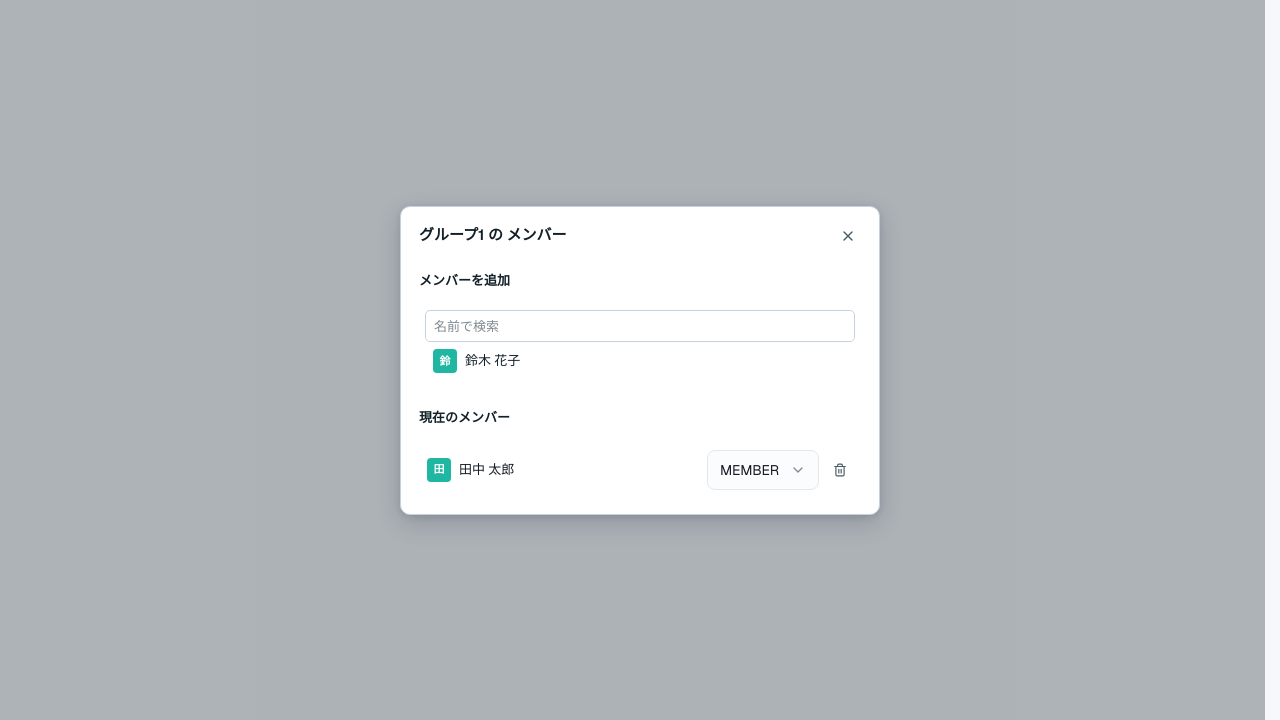
it: DeskMembershipScopeModal（dsk-0309・共通メンバー管理モーダル） › ロール変更失敗時、inline エラーと toast.error の両方を出すこと
Click the button with aria-label "田中 太郎 のロール" at [763, 470], box [707,450,819,490]
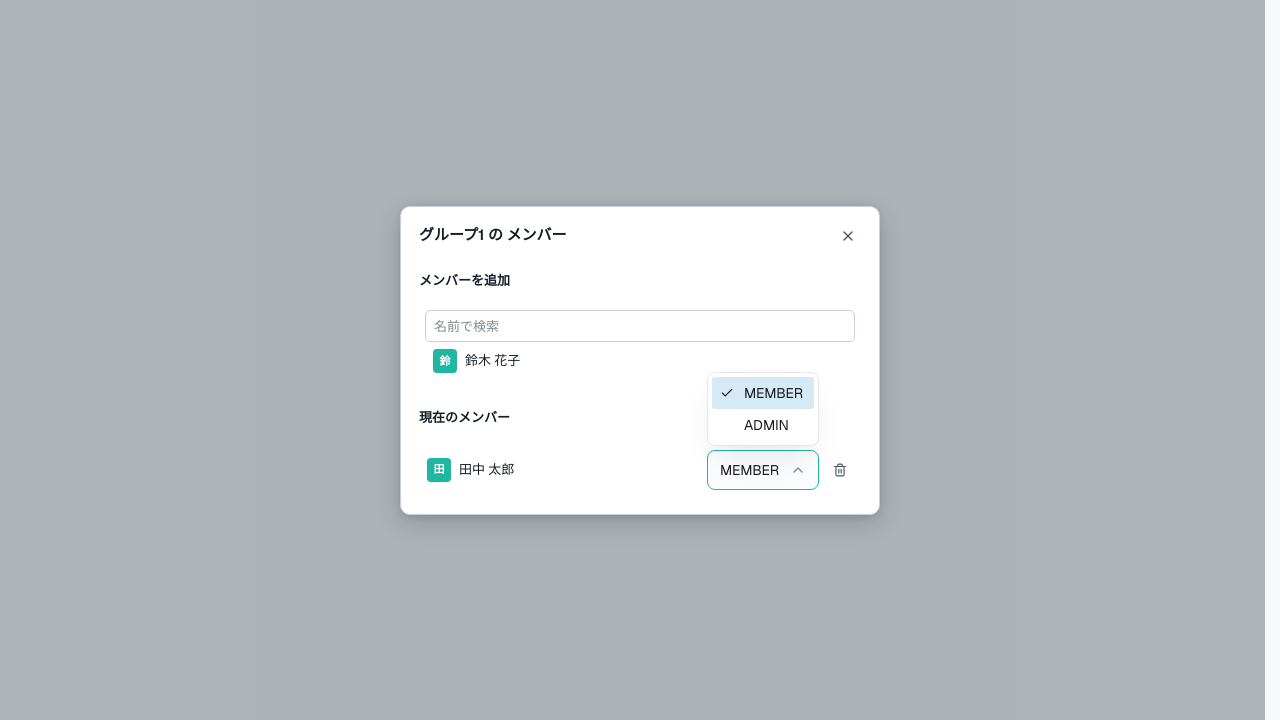
Click the option "ADMIN" at [766, 424], box [744,416,789,434]
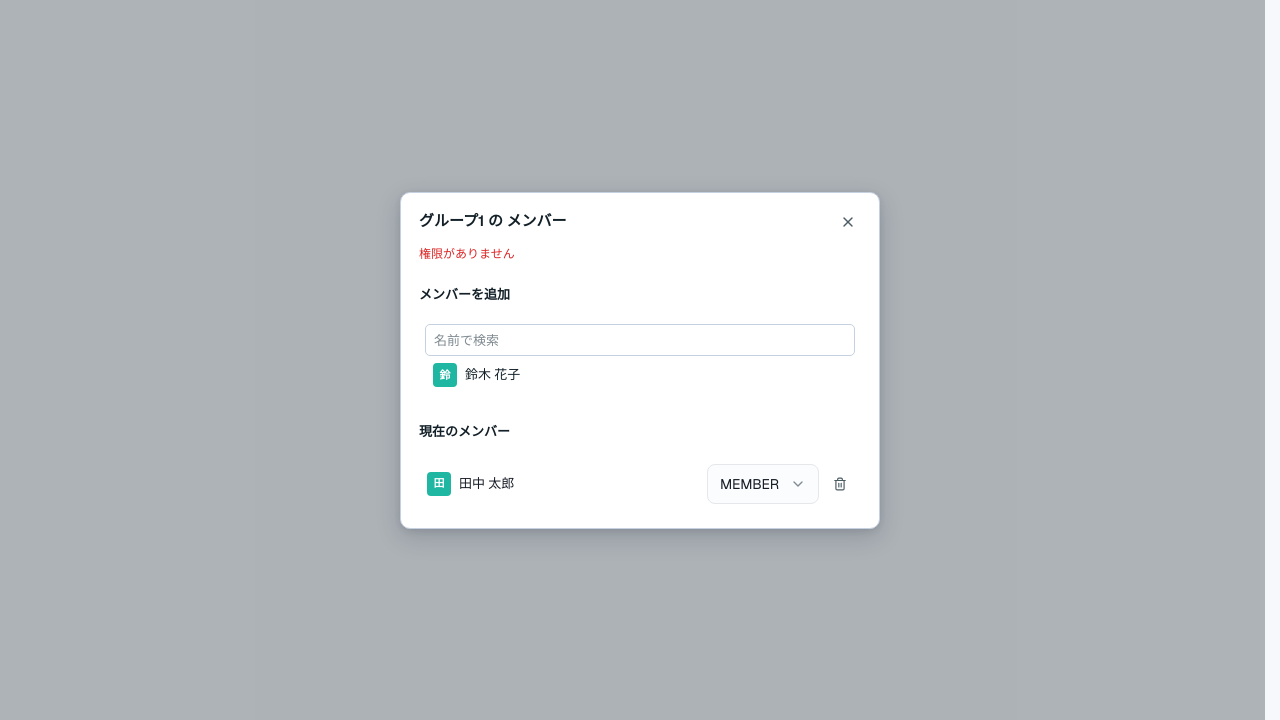
Now the message reads "権限がありません", box [419,246,515,262]
